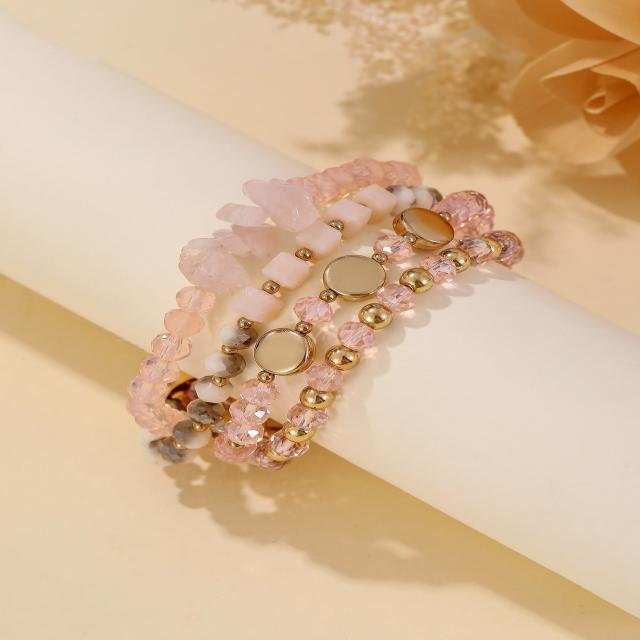bracelet: (29, 95, 594, 518)
